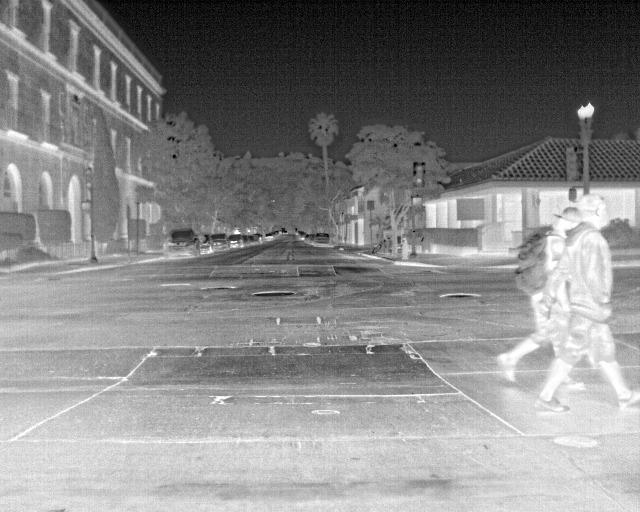bicycle: (160, 228, 199, 260), (312, 232, 331, 250), (210, 233, 228, 252), (200, 236, 215, 254), (228, 236, 241, 250)
empty: (532, 193, 638, 415), (493, 206, 578, 379)
